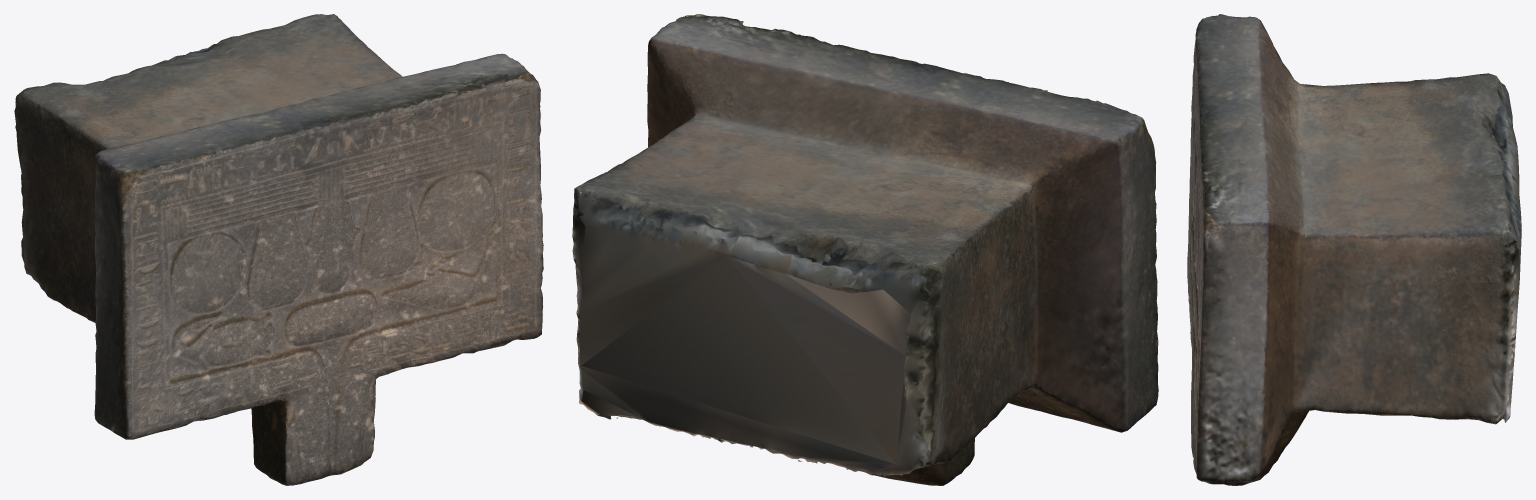
Rendered from nesptah.obj.
3 renders of one model, left to right at view 1: azimuth 30°, elevation 25°; view 2: azimuth 150°, elevation 25°; view 3: azimuth 270°, elevation 25°, orthographic. The views are drawn at different scales.
Bounding box in the file's own units: 11.06 × 8.83 × 7.56.
Materials: 1 (1 with a texture image).
